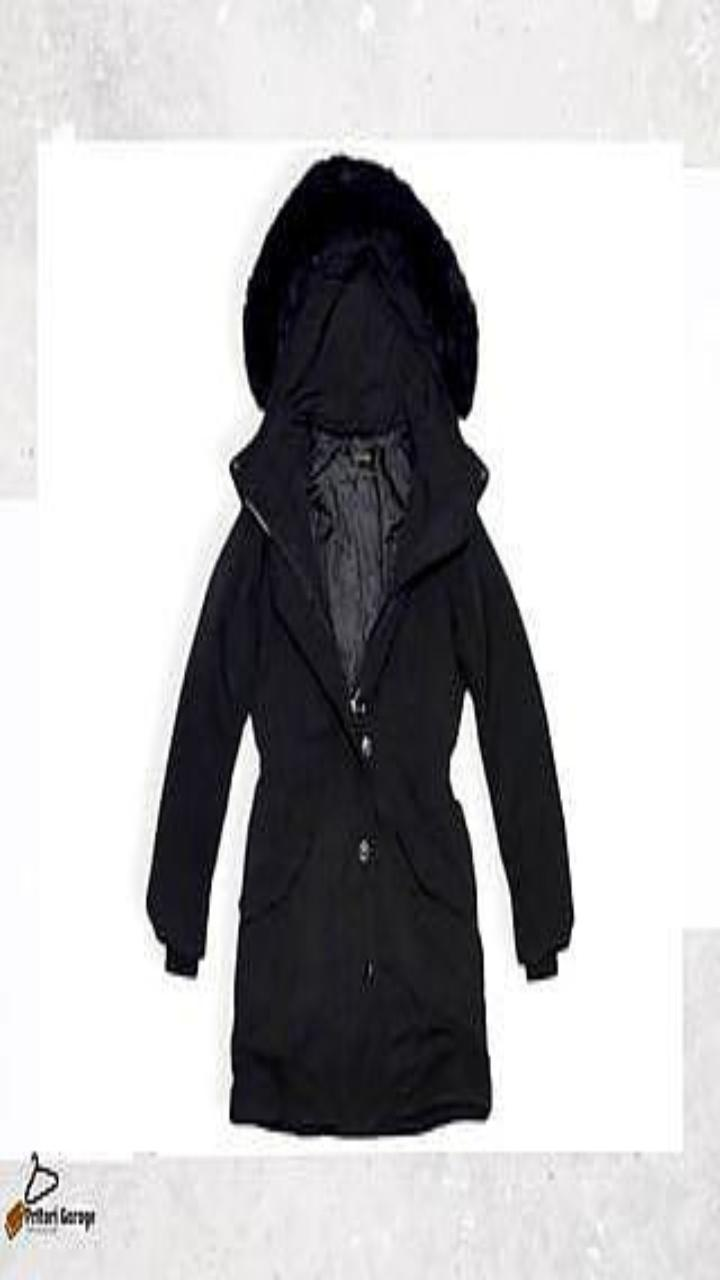Coat: (147, 155, 572, 1134)
